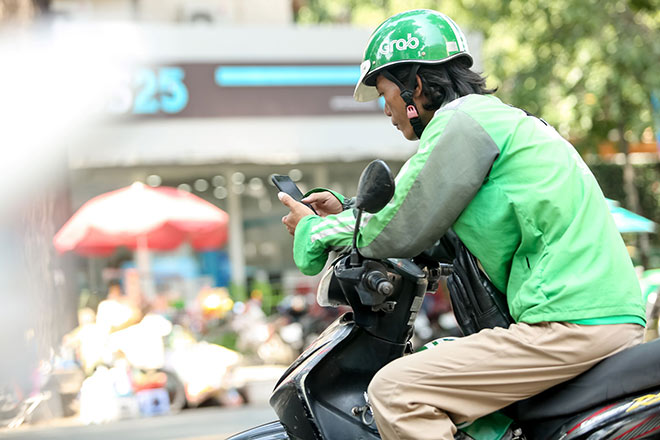su dung dien thoai: (269, 11, 469, 241)
